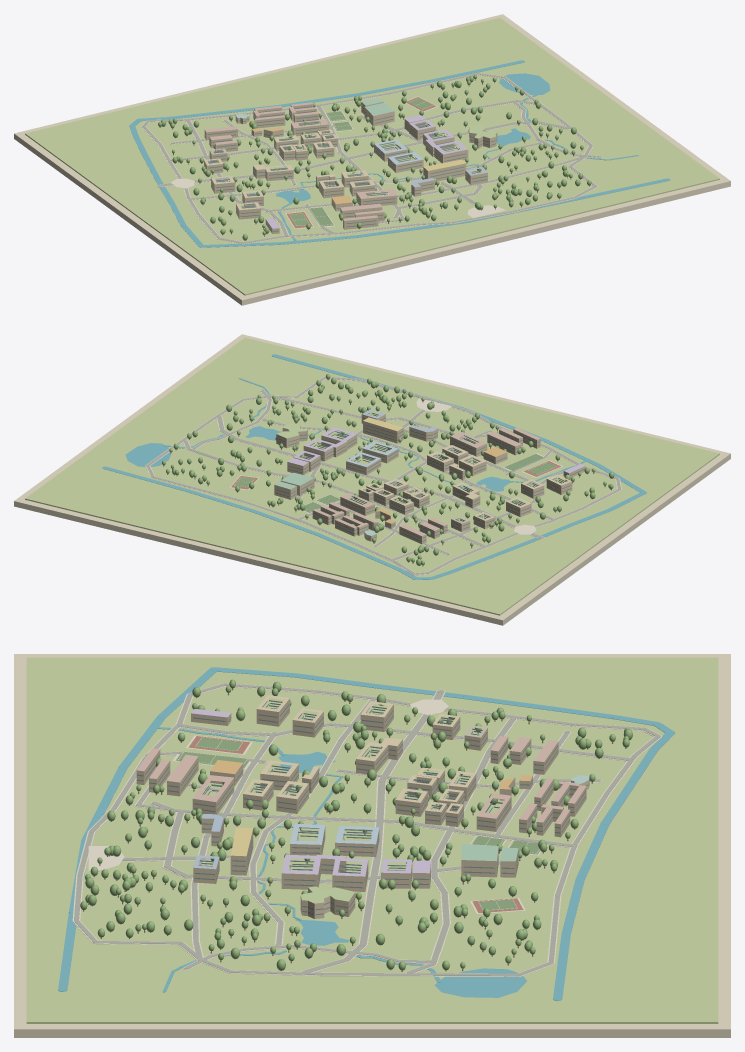
Rendered from nku-jinnan-calibrated.glb.
3 views of the same model, one above another, from view 1: azimuth 30°, elevation 25°; view 2: azimuth 150°, elevation 25°; view 3: azimuth 270°, elevation 25° (orthographic). The views are drawn at different scales.
Visible parts, largest first — view 1: Nankai_Jinnan_Calibrated_Rough_Model, 示意绿化（非实景位置）, 东北湖面（边缘粗描）, 体育馆 / 羽毛球馆, 津南校区图书馆, 理科宿舍组团 1（编号待核对）, 综合实验楼 · 南组团, 新闻与传播学院, 公共教学楼南组团（分区边界待核对）, 文科宿舍东组团（分栋待核对）, 综合实验楼 · 北组团, 大通学生中心 (+3 smaller); view 2: Nankai_Jinnan_Calibrated_Rough_Model, 示意绿化（非实景位置）, 体育馆 / 羽毛球馆, 东北湖面（边缘粗描）, 津南校区图书馆, 综合实验楼 · 中组团, 综合实验楼 · 北组团, 大通学生中心, 理科宿舍组团 1（编号待核对）, 文科宿舍东组团（分栋待核对）, 公共教学楼北组团（分区边界待核对）, 公共教学楼南组团（分区边界待核对） (+3 smaller); view 3: Nankai_Jinnan_Calibrated_Rough_Model, 示意绿化（非实景位置）, 东北湖面（边缘粗描）, 体育馆 / 羽毛球馆, 大通学生中心, 综合实验楼 · 中组团, 文科宿舍东组团（分栋待核对）, 综合实验楼 · 北组团, 综合实验楼 · 南组团, 公共教学楼北组团（分区边界待核对）, 理科宿舍组团 1（编号待核对）, 新闻与传播学院 (+14 smaller).
Part boxes in pixels (box(x1,y1,x2,y2)): Nankai_Jinnan_Calibrated_Rough_Model: box(14, 14, 730, 305); 示意绿化（非实景位置）: box(158, 74, 591, 240); 东北湖面（边缘粗描）: box(499, 73, 550, 94); 体育馆 / 羽毛球馆: box(361, 98, 394, 126); 津南校区图书馆: box(423, 159, 466, 181); 理科宿舍组团 1（编号待核对）: box(356, 189, 397, 205); 综合实验楼 · 南组团: box(433, 140, 468, 163); 新闻与传播学院: box(253, 164, 293, 181); 公共教学楼南组团（分区边界待核对）: box(388, 152, 423, 172); 文科宿舍东组团（分栋待核对）: box(289, 102, 319, 123); 综合实验楼 · 北组团: box(404, 115, 435, 140); 大通学生中心: box(469, 125, 497, 148); Nankai_Jinnan_Calibrated_Rough_Model: box(14, 334, 730, 625); 示意绿化（非实景位置）: box(162, 374, 614, 565); 体育馆 / 羽毛球馆: box(274, 472, 314, 499); 东北湖面（边缘粗描）: box(125, 443, 170, 466); 津南校区图书馆: box(363, 417, 403, 443); 综合实验楼 · 中组团: box(303, 438, 347, 461); 综合实验楼 · 北组团: box(287, 450, 320, 474); 大通学生中心: box(276, 423, 307, 448); 理科宿舍组团 1（编号待核对）: box(450, 432, 487, 456); 文科宿舍东组团（分栋待核对）: box(312, 502, 349, 525); 公共教学楼北组团（分区边界待核对）: box(346, 452, 381, 475); 公共教学楼南组团（分区边界待核对）: box(362, 441, 398, 463); Nankai_Jinnan_Calibrated_Rough_Model: box(14, 654, 730, 1037); 示意绿化（非实景位置）: box(80, 679, 632, 970); 东北湖面（边缘粗描）: box(434, 968, 526, 997); 体育馆 / 羽毛球馆: box(461, 843, 518, 877); 大通学生中心: box(300, 886, 355, 918); 综合实验楼 · 中组团: box(316, 854, 368, 891); 文科宿舍东组团（分栋待核对）: box(519, 803, 570, 837); 综合实验楼 · 北组团: box(381, 859, 430, 888); 综合实验楼 · 南组团: box(281, 854, 320, 889); 公共教学楼北组团（分区边界待核对）: box(335, 826, 379, 856); 理科宿舍组团 1（编号待核对）: box(192, 775, 234, 814); 新闻与传播学院: box(356, 737, 402, 774).
Size of the model in its own units: 104 by 4.16 by 84.
